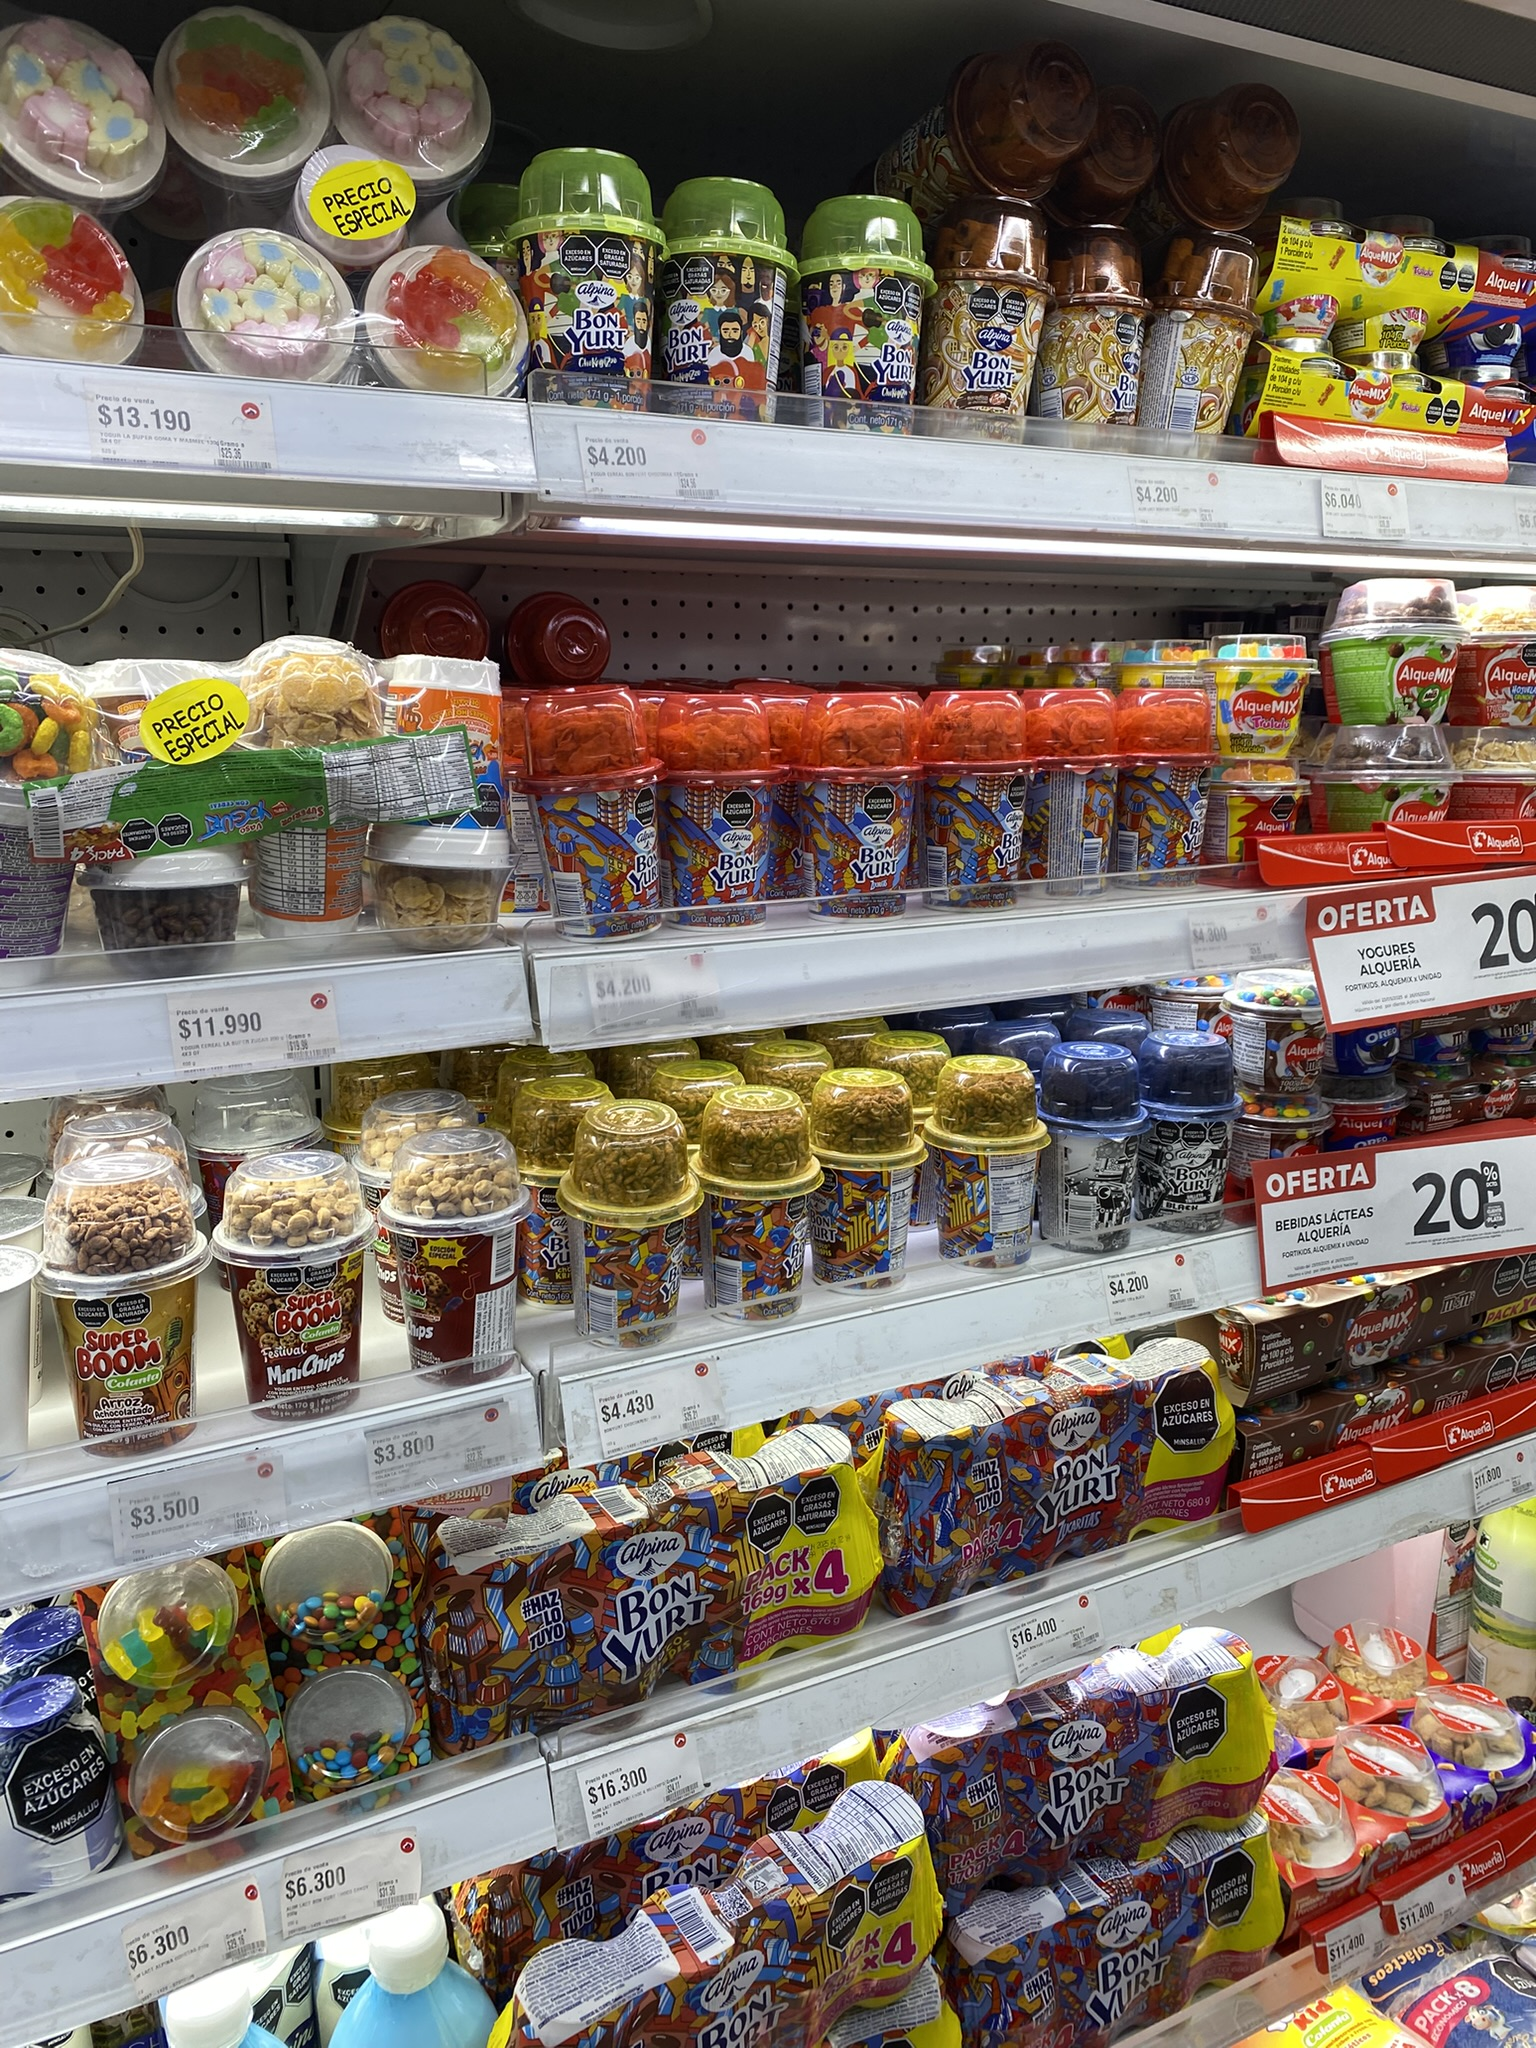BonYurt: (545, 1095, 707, 1343), (521, 672, 670, 932), (657, 693, 789, 927), (800, 689, 920, 927), (694, 1097, 818, 1309), (933, 1058, 1055, 1266), (928, 689, 1041, 903), (805, 1076, 925, 1269), (1039, 692, 1136, 895), (1131, 701, 1226, 872)
